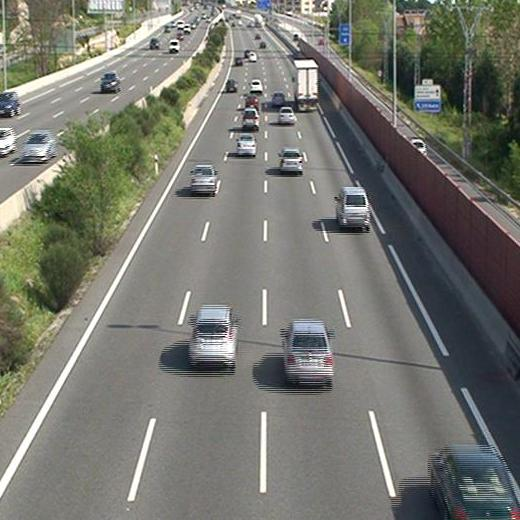car: (429, 448, 520, 520), (284, 322, 335, 382), (190, 303, 236, 364), (337, 189, 370, 228), (190, 165, 218, 196), (279, 149, 302, 172), (237, 134, 256, 154), (241, 110, 259, 129), (279, 108, 296, 124), (249, 79, 263, 93), (244, 97, 258, 109), (272, 93, 284, 106), (225, 80, 237, 92), (247, 52, 257, 62), (234, 56, 243, 66)
truck: (292, 60, 320, 111)
